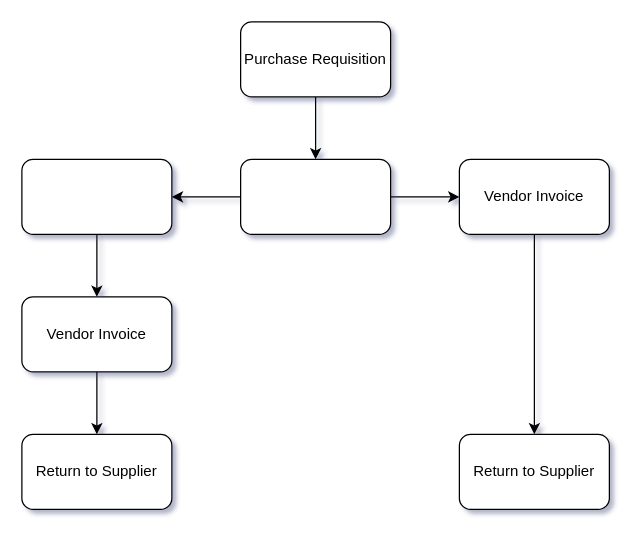
Some shapes in this 639 by 539 pixel diagram are drawn without their labels. Each missing label, with the centre of its shape:
Good Received Note: pixel 96 196
Purchase Order: pixel 315 196
